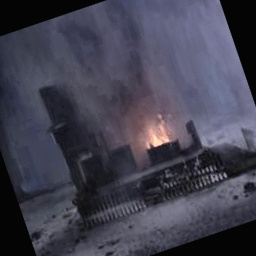fire: (120, 87, 189, 172)
smoke: (72, 0, 245, 124)
